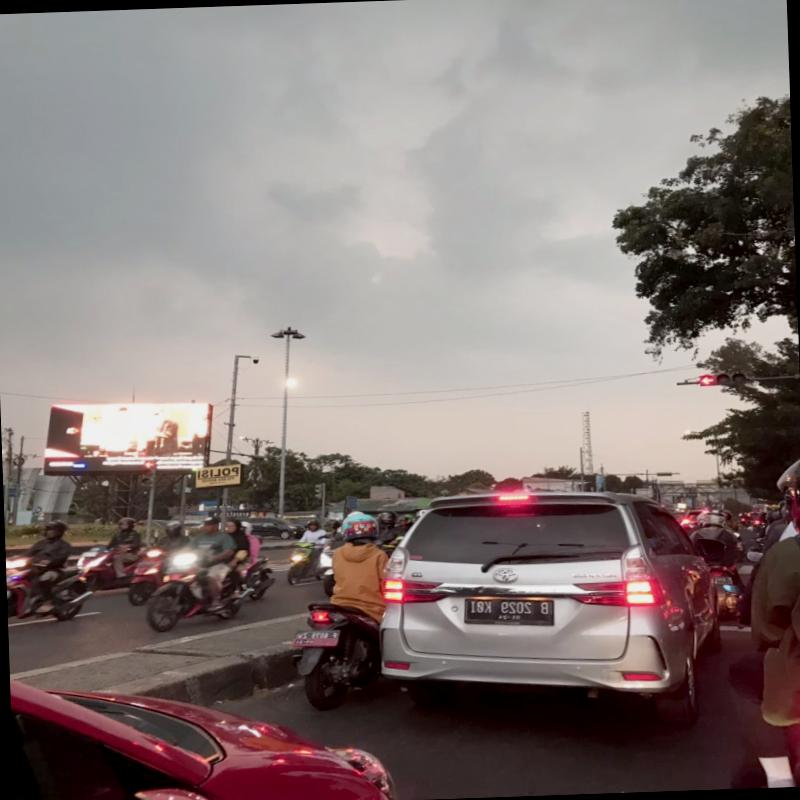license plate on a car: (465, 598, 553, 625)
